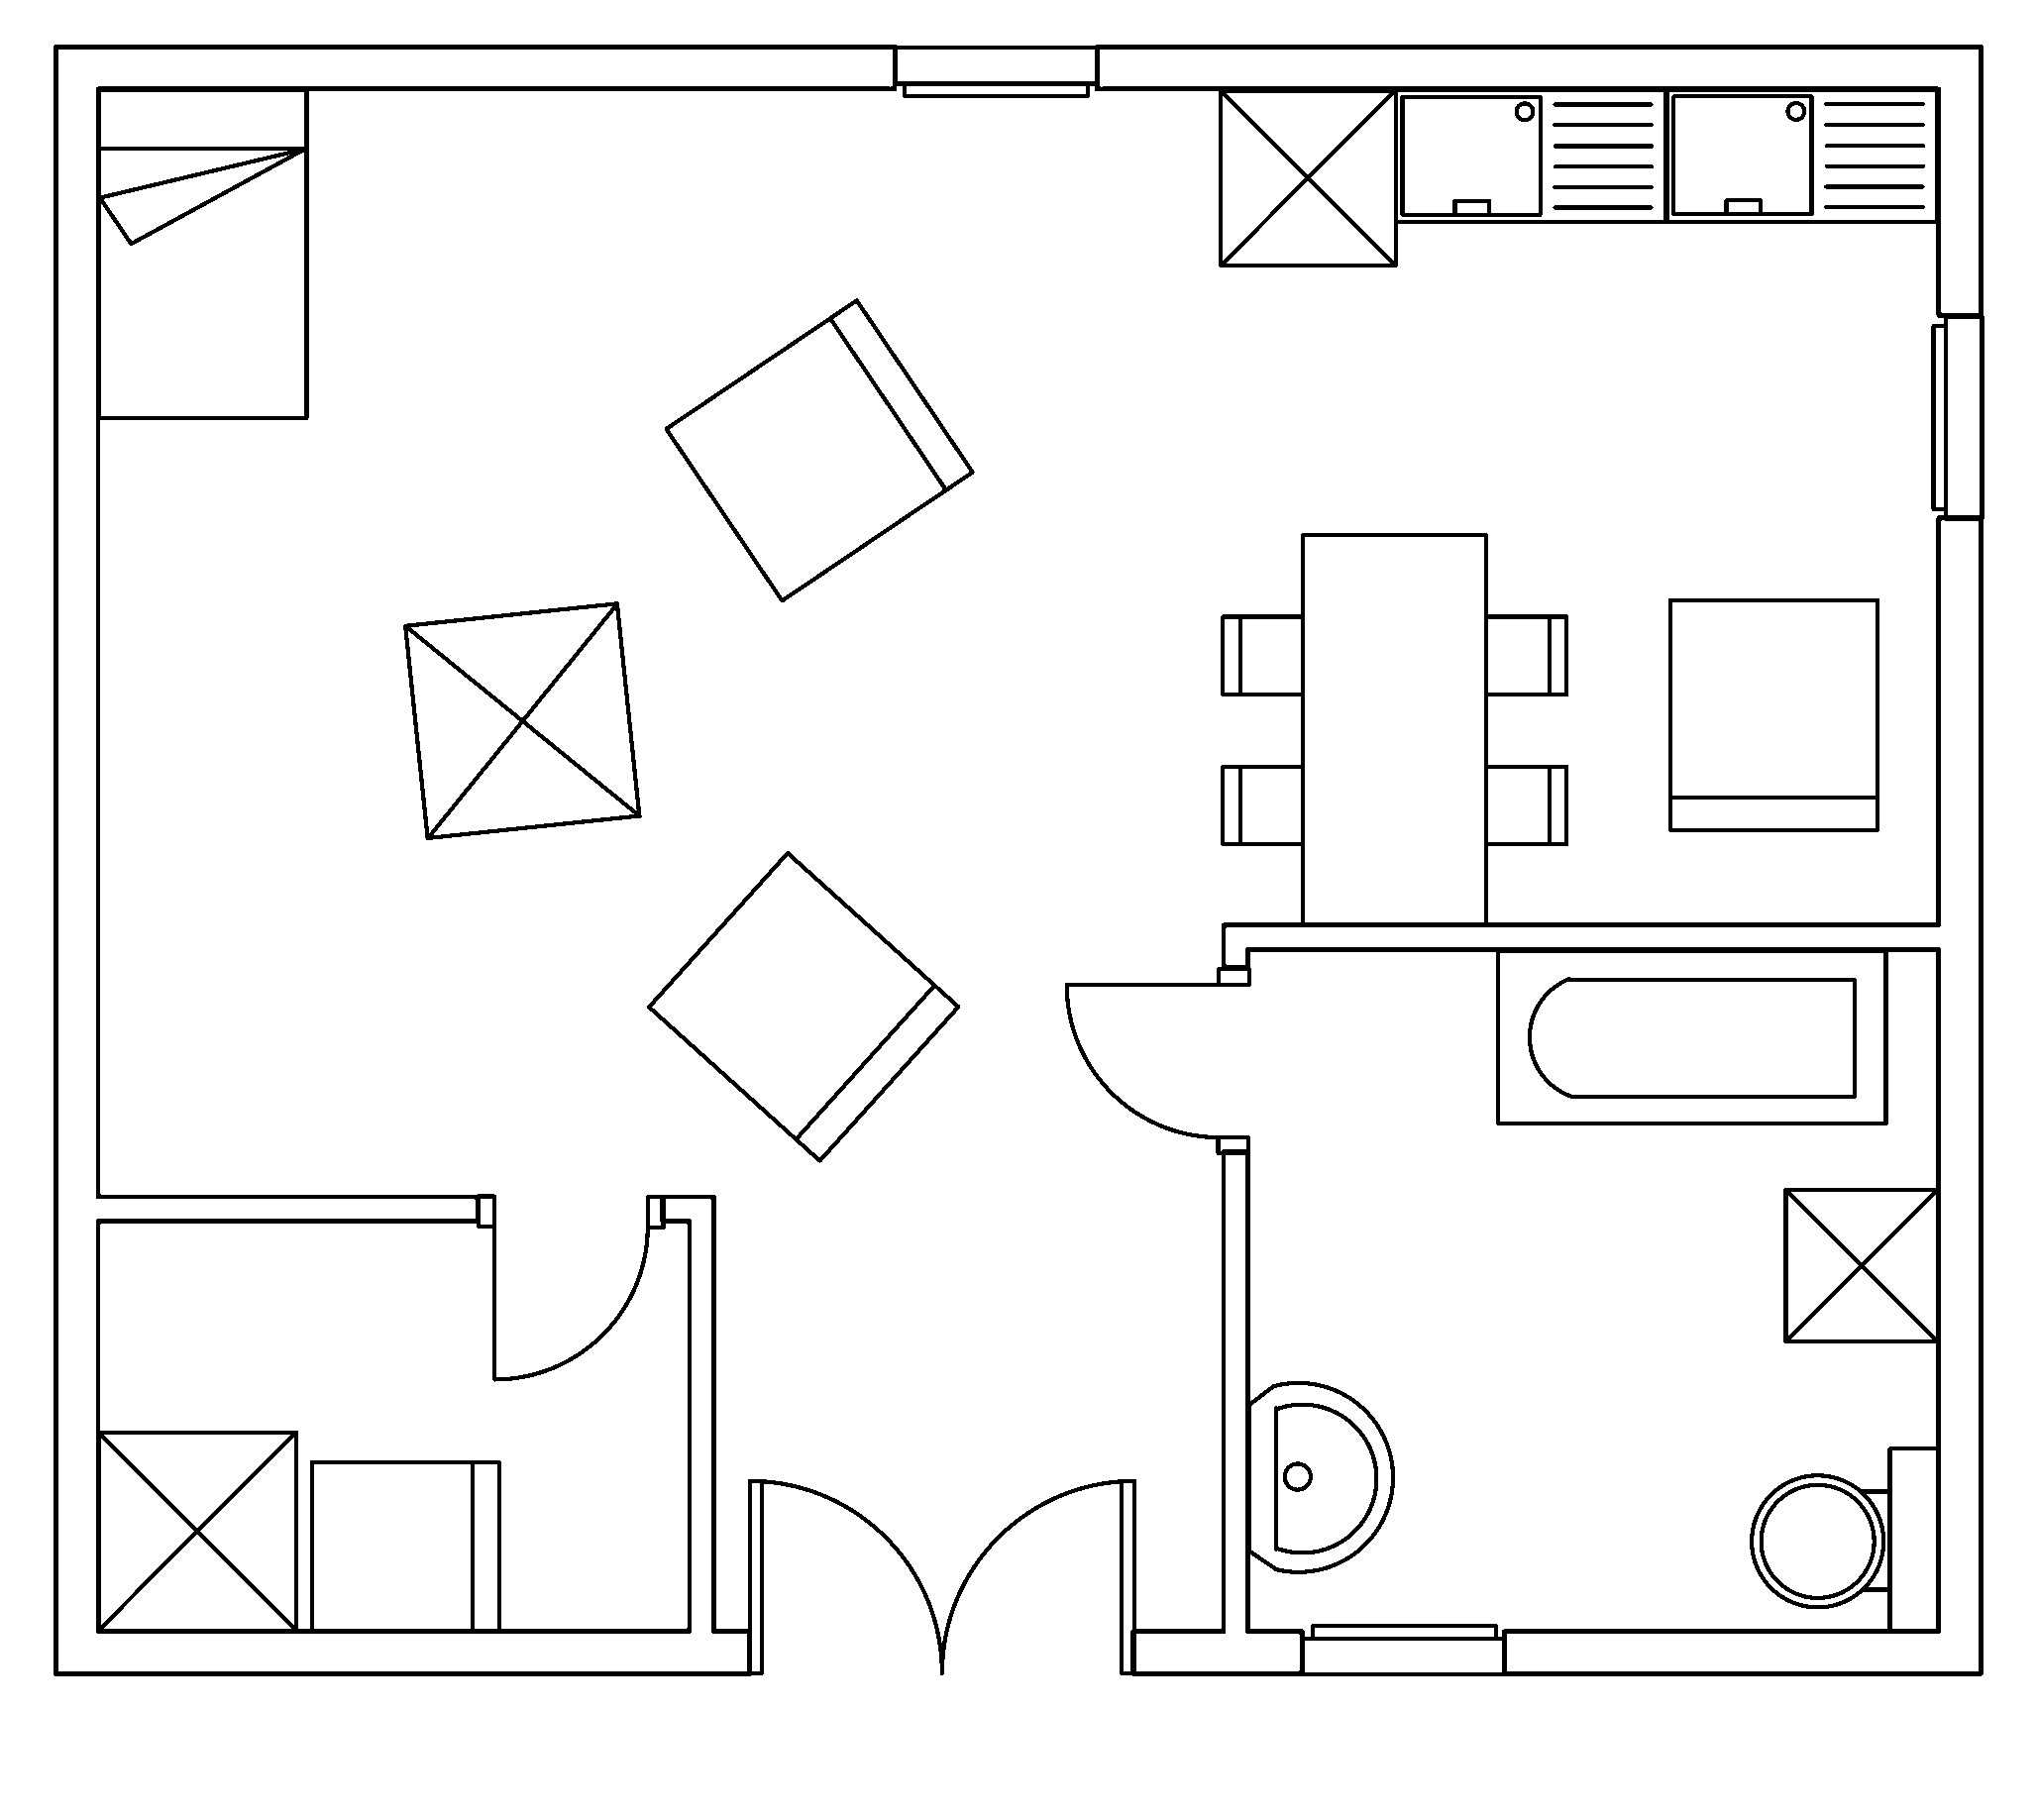bed: (95, 86, 309, 420)
coffee_table: (402, 599, 643, 840), (95, 1428, 299, 1632), (1217, 86, 1398, 267), (1781, 1186, 1940, 1344)
dining_table: (1219, 531, 1568, 926)
large_sink: (1749, 1444, 1940, 1632)
sink: (1663, 86, 1940, 223), (1393, 86, 1668, 223)
small_sink: (1245, 1381, 1394, 1572)
small_sofa: (644, 849, 961, 1163), (662, 297, 975, 603), (1666, 597, 1879, 833), (307, 1458, 500, 1632)
tub: (1494, 947, 1888, 1126)
